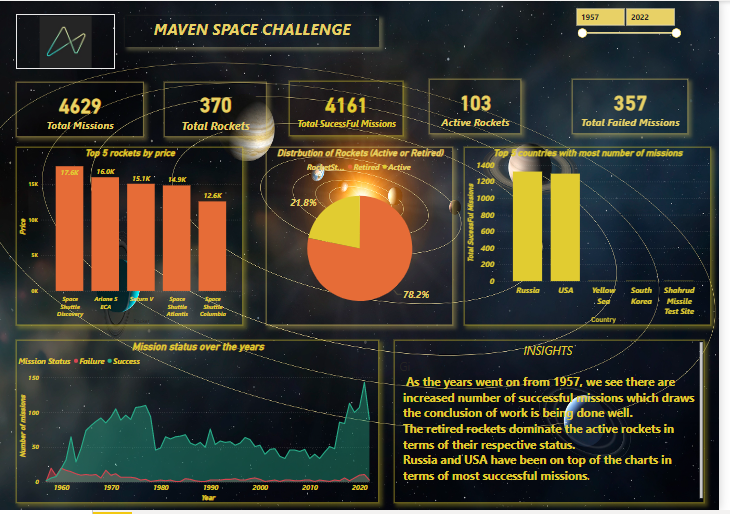

The dashboard page shown, as its layout file describes it:
{"tool":"powerbi","page":{"name":"Maven_Space_Report","canvas":[2000,1400],"ordinal":0},"visuals":[{"type":"slicer","fields":{"Values":["space_missions.YEAR"]},"box":[1598,11,308.1,178.8],"z":0},{"type":"card","fields":{"Values":["space_missions.Total Rockets"]},"box":[475.3,221.5,281.7,150.5],"z":1000},{"type":"card","fields":{"Values":["space_missions.Active Rockets"]},"box":[1204.7,214.5,253,151.3],"z":2000},{"type":"card","fields":{"Values":["space_missions.Sucessful total attempts"]},"box":[68.8,221.5,350.5,150.5],"z":3000},{"type":"textbox","box":[369.9,40.9,698.9,83.9],"z":4000},{"type":"image","box":[68.8,34.4,273.1,152.7],"z":5000},{"type":"card","fields":{"Values":["space_missions.Failed Attemps"]},"box":[1598,214.5,319.1,151.3],"z":6000},{"type":"pieChart","title":"Distrbution of Rockets (Active or Retired)","fields":{"Category":["space_missions.RocketStatus"],"Y":["CountNonNull(space_missions.RocketStatus)"]},"box":[756.4,401.6,514.3,489.6],"z":7000},{"type":"columnChart","title":"Top 5 rockets by price","fields":{"Category":["space_missions.Rocket"],"Y":["Sum(space_missions.Price)"]},"box":[68.8,401.6,624.4,489.6],"z":8000},{"type":"areaChart","title":"Mission status over the years","fields":{"Category":["space_missions.Date.Variation.Date Hierarchy.Year"],"Y":["CountNonNull(space_missions.MissionStatus)"],"Series":["space_missions.MissionStatus"]},"box":[68.8,932.4,998.4,448.3],"z":9000},{"type":"textbox","box":[1108.4,932.4,852.7,448.3],"z":10000},{"type":"columnChart","title":"Top 5 countries with most number of missions","fields":{"Y":["space_missions.Total SucessFul Missions"],"Category":["space_missions.Country"]},"box":[1301,401.6,679.4,489.6],"z":10001},{"type":"card","fields":{"Values":["space_missions.Total SucessFul Missions"]},"box":[819.6,220,313.6,151.3],"z":10002}]}

Visuals, with their boxes in screenshot pixels (x1, y1, x2, y2), scaled from the page's 2000x1400 canvas onto the 730x514 screenshot:
slicer - space_missions.YEAR: (583,4,696,70)
card - space_missions.Total Rockets: (173,81,276,137)
card - space_missions.Active Rockets: (440,79,532,134)
card - space_missions.Sucessful total attempts: (25,81,153,137)
textbox: (135,15,390,46)
image: (25,13,125,69)
card - space_missions.Failed Attemps: (583,79,700,134)
"Distrbution of Rockets (Active or Retired)" pieChart: (276,147,464,327)
"Top 5 rockets by price" columnChart: (25,147,253,327)
"Mission status over the years" areaChart: (25,342,390,507)
textbox: (405,342,716,507)
"Top 5 countries with most number of missions" columnChart: (475,147,723,327)
card - space_missions.Total SucessFul Missions: (299,81,414,136)
